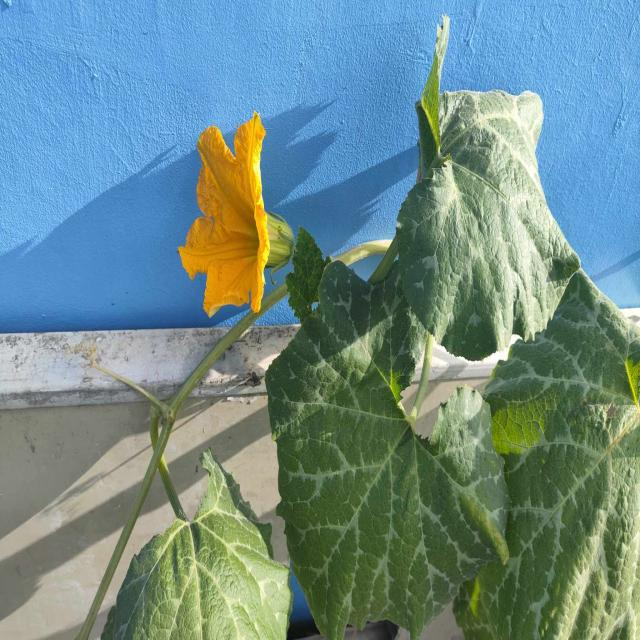flower: (173, 109, 296, 321)
